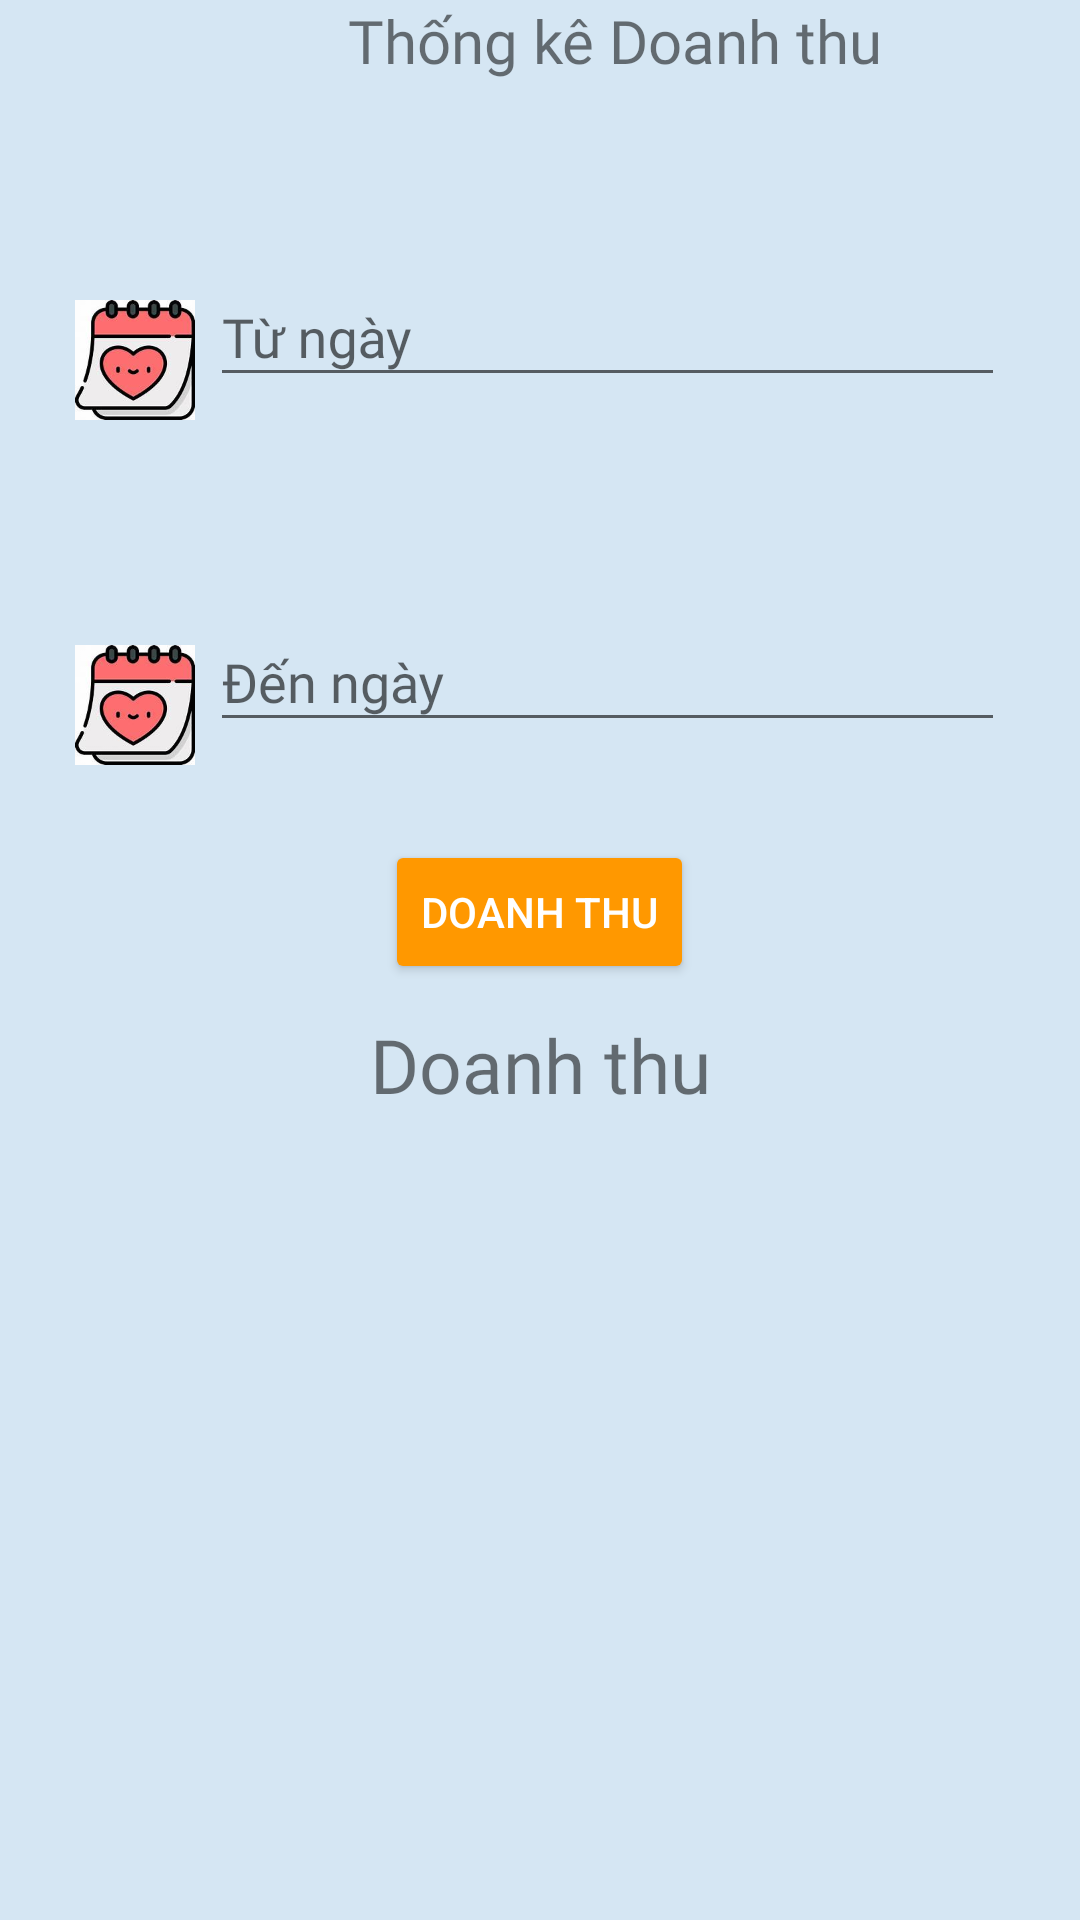

Icon click points for this 1080*1920 phone screenshot, format (x,y):
calandar: (135,360), (135,705)
